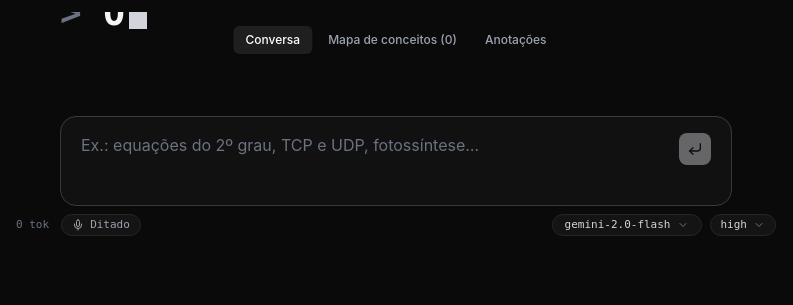
SessionView failure recovery › U8: a failed session start restores the topic and leaves no bubble
In the text box with placeholder "Ex.: equações do 2º grau, TCP e UDP, fotossíntese…": (376, 161) top-left (81, 133), bottom-right (671, 189), type "Meu tema"
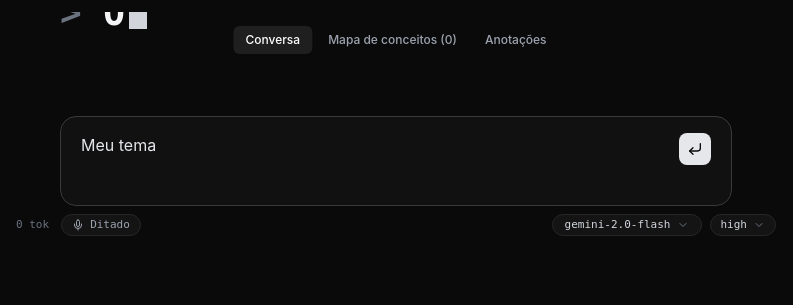
Click the button named "começar": click(695, 149) top-left (679, 133), bottom-right (711, 165)
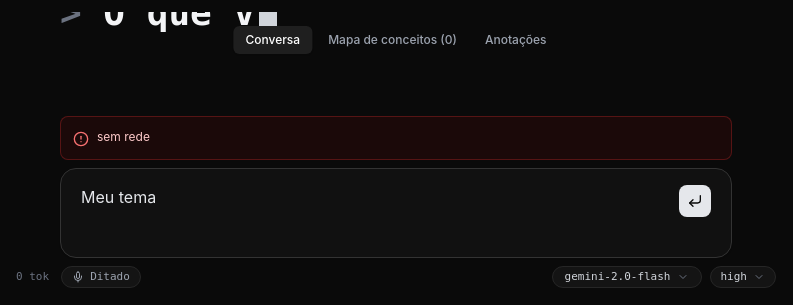
Check: the message "sem rede" is shown, box top-left (60, 116), bottom-right (732, 160)
